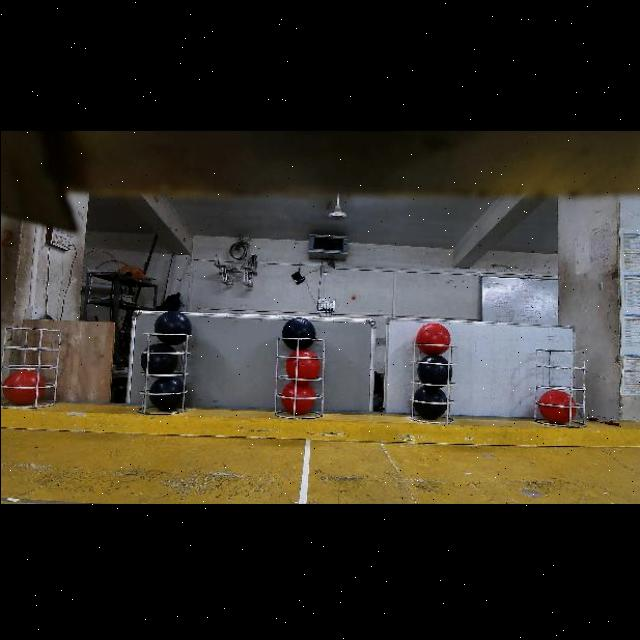P: (154, 309, 191, 344), (147, 376, 182, 411), (139, 342, 178, 373), (281, 316, 315, 350), (413, 385, 447, 418), (417, 352, 452, 383)
R: (2, 369, 44, 404), (538, 389, 577, 424), (416, 321, 451, 354), (281, 381, 315, 413), (285, 347, 320, 378)
S: (0, 321, 58, 414), (270, 334, 328, 420), (133, 331, 190, 415), (408, 338, 460, 424), (536, 344, 590, 424)
